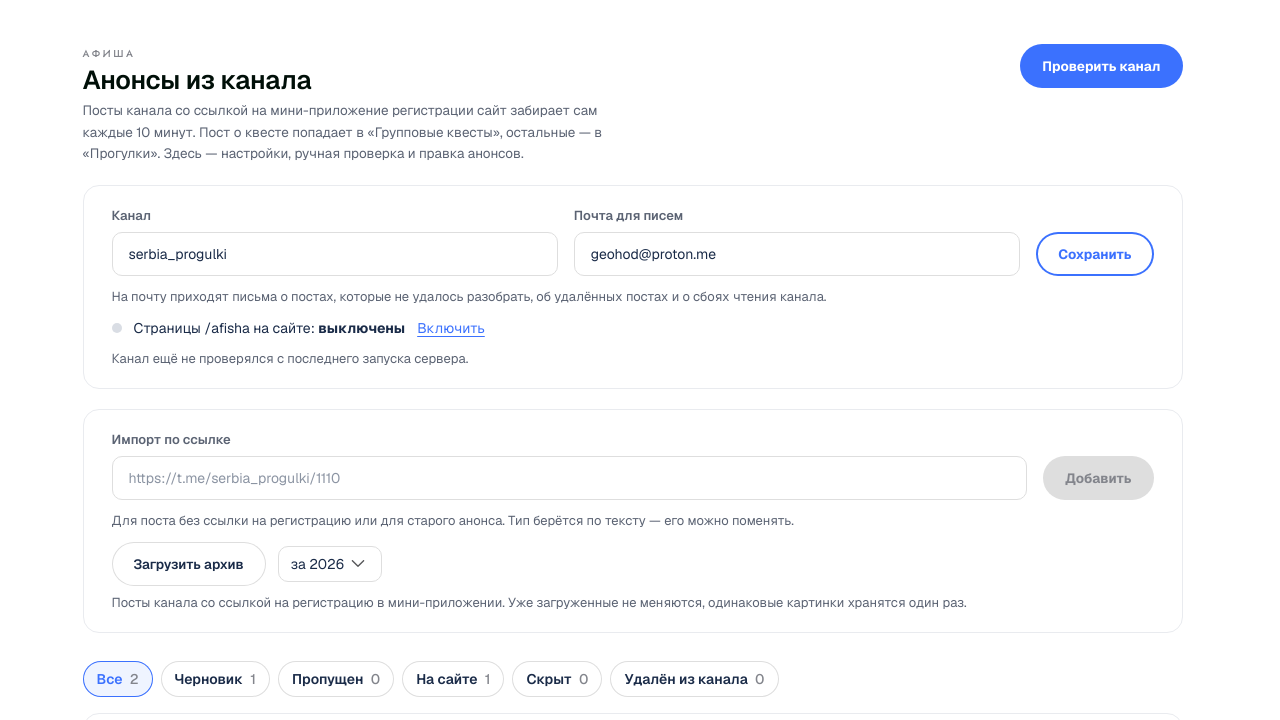
Test: AdminAfishaPage › reads the channel on demand and reports what changed
Click the button "Проверить канал" at (1101, 66), box [1020,44,1182,88]
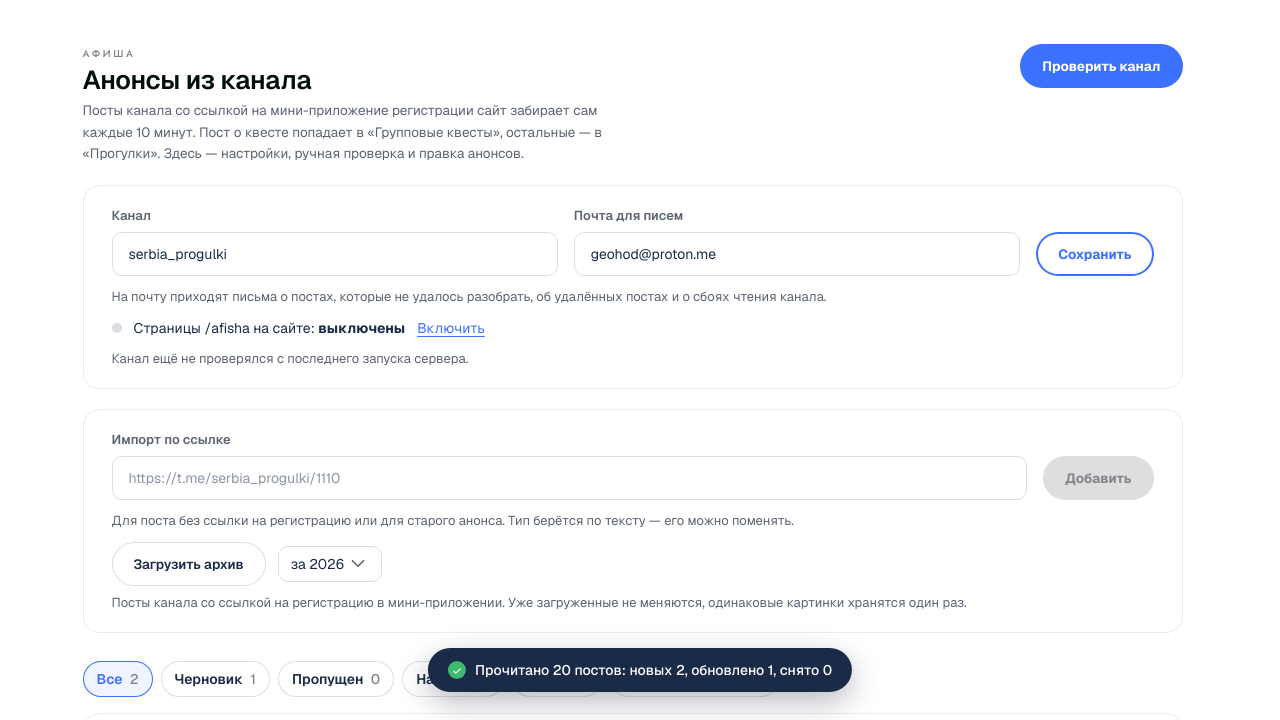
Expected: the text "Прочитано 20 постов: новых 2, обновлено 1, снято 0" is shown, [475,661,832,679]
